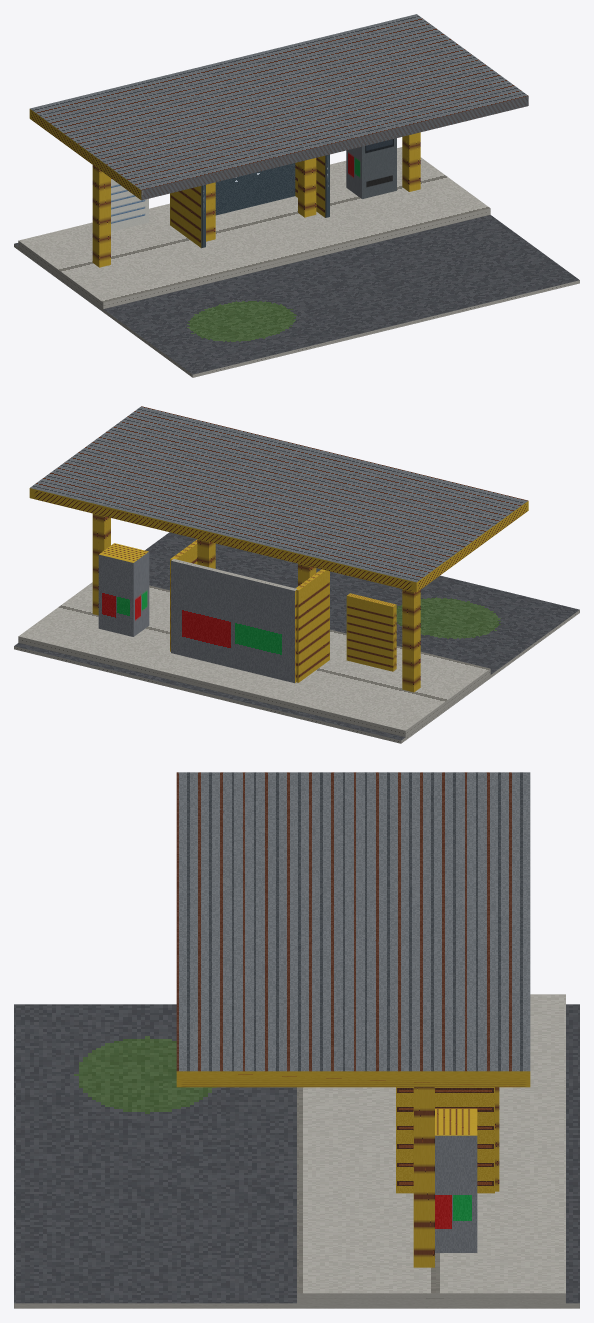
Rendered from building_bus_station_03.glb.
3 views of the same model, one above another, from view 1: azimuth 30°, elevation 25°; view 2: azimuth 150°, elevation 25°; view 3: azimuth 270°, elevation 25° (orthographic). The views are drawn at different scales.
Visible parts, largest first — view 1: Building_Bus_Station_03; view 2: Building_Bus_Station_03; view 3: Building_Bus_Station_03.
Boxes of the visible parts, bbox=[...] form: Building_Bus_Station_03: bbox=[14, 14, 579, 377]; Building_Bus_Station_03: bbox=[14, 406, 579, 743]; Building_Bus_Station_03: bbox=[14, 772, 579, 1308].
Bounding box in the file's own units: 10 × 3.7 × 8.
Materials: 1 (1 with a texture image).
